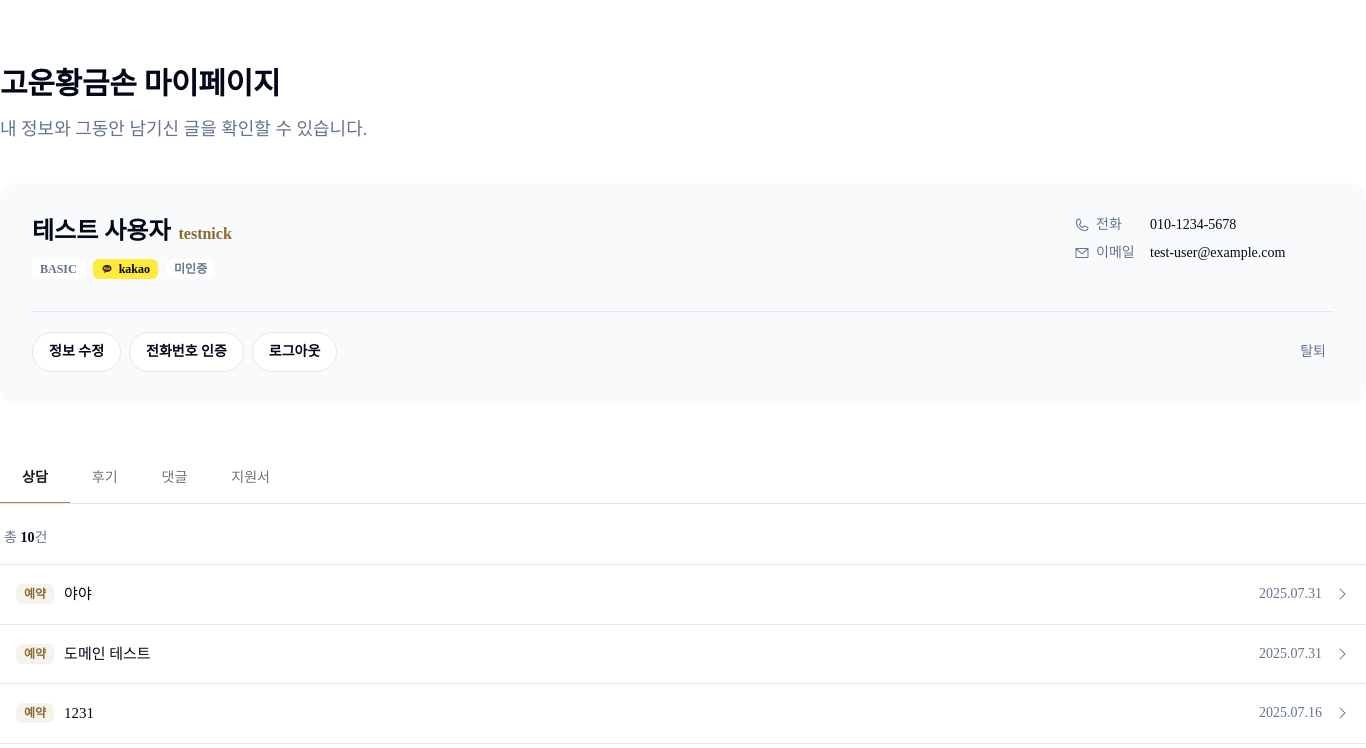
Mypage 컴포넌트 테스트 › 회원탈퇴 버튼 클릭 시 회원탈퇴 모달이 열리는지 테스트
The image size is (1366, 748).
Click the button "탈퇴" at (1313, 352), box [1292,342,1334,362]
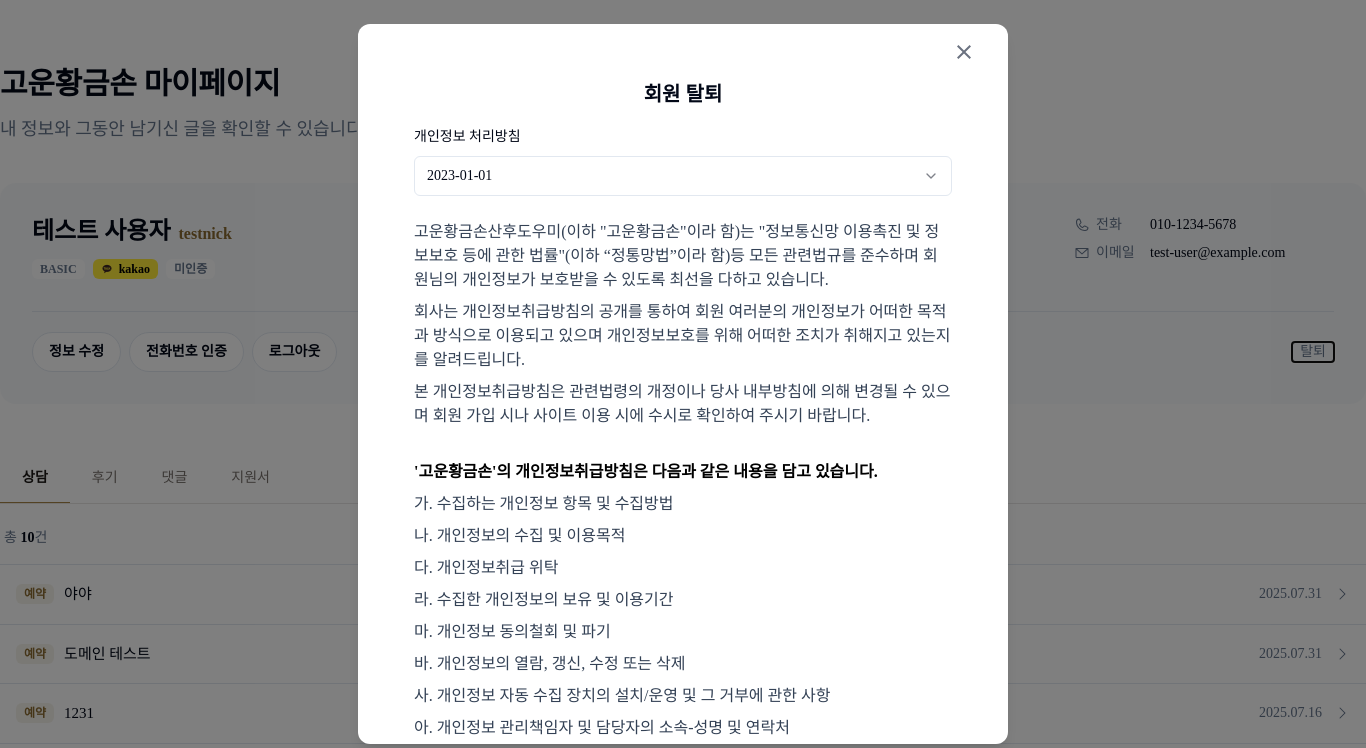
expect the heading "회원 탈퇴" is shown: met, box [644,80,722,108]
